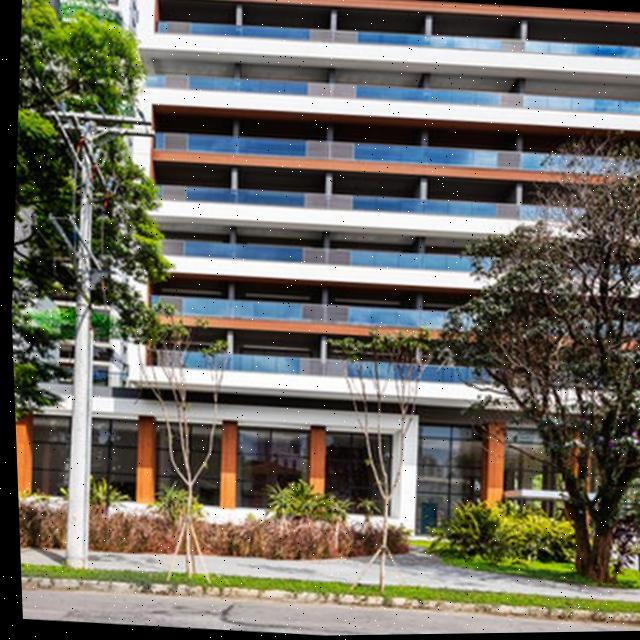building: (40, 0, 640, 559)
